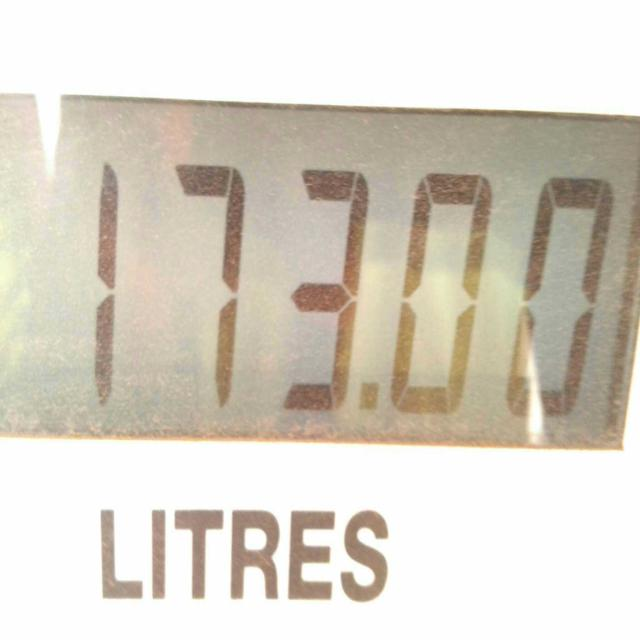.: (350, 376, 388, 426)
0: (510, 171, 616, 418), (394, 176, 489, 418)
1: (89, 158, 135, 408)
3: (287, 164, 362, 428)
7: (176, 159, 242, 403)
